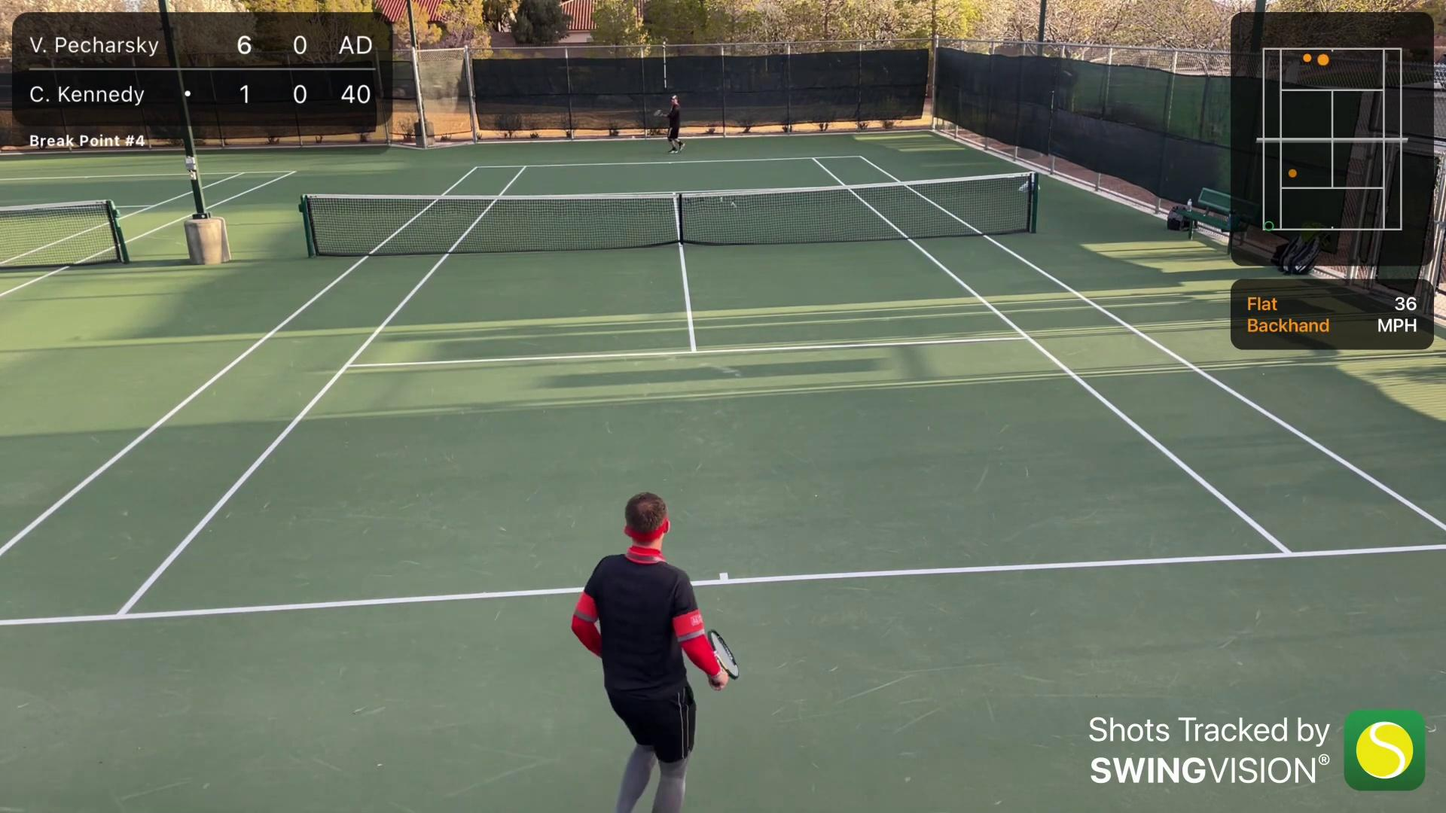ball: (630, 134, 637, 141)
